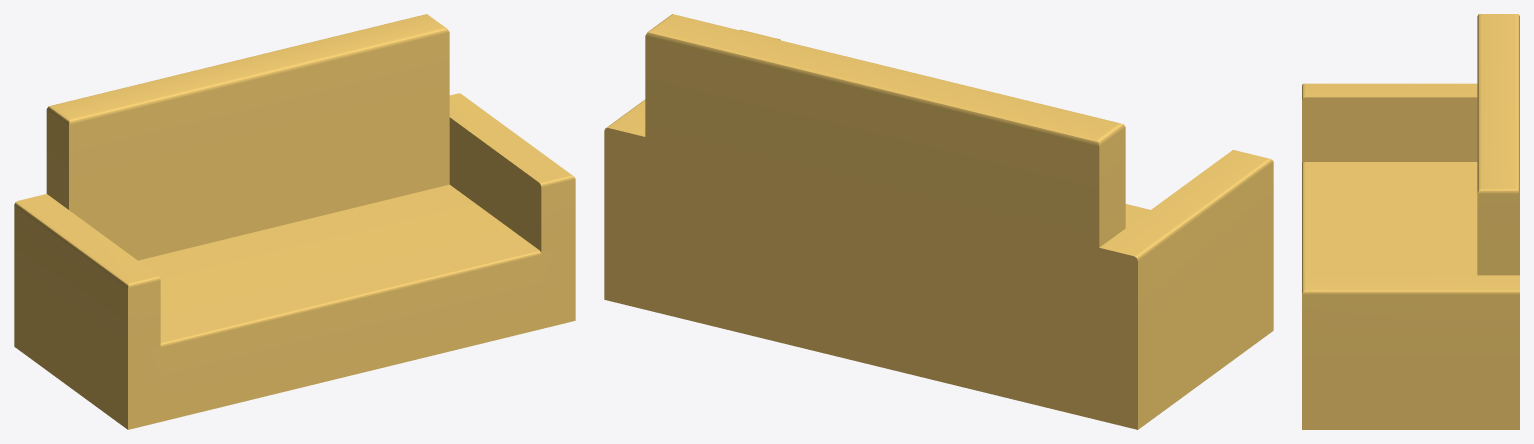
Rendered from Sofa_text.fbx.
3 renders of one model, left to right at view 1: azimuth 30°, elevation 25°; view 2: azimuth 150°, elevation 25°; view 3: azimuth 270°, elevation 25°, orthographic. The views are drawn at different scales.
Visible parts, largest first — view 1: Canapé; view 2: Canapé; view 3: Canapé.
Part boxes in pixels (left/top/right/bottom): Canapé: left=14, top=14, right=575, bottom=429; Canapé: left=604, top=14, right=1273, bottom=429; Canapé: left=1302, top=14, right=1519, bottom=429.
Bounding box in the file's own units: 282 × 141 × 124.
Materials: 1 (1 with a texture image).
